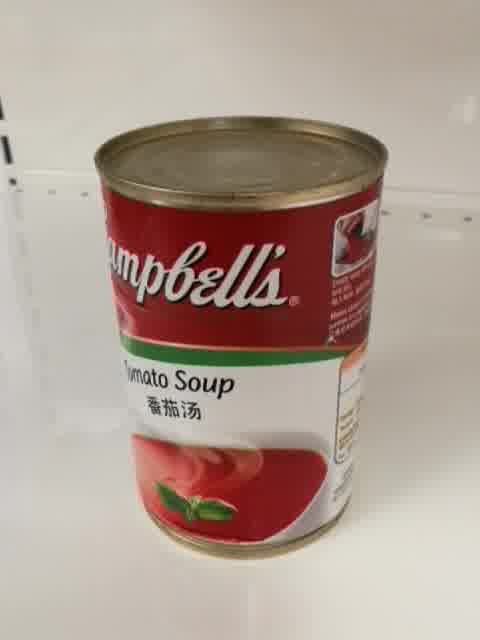tomatosoup: (90, 111, 389, 565)
